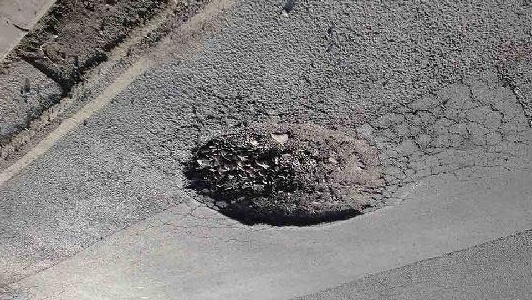pothole: (173, 124, 412, 229), (12, 0, 178, 96)
